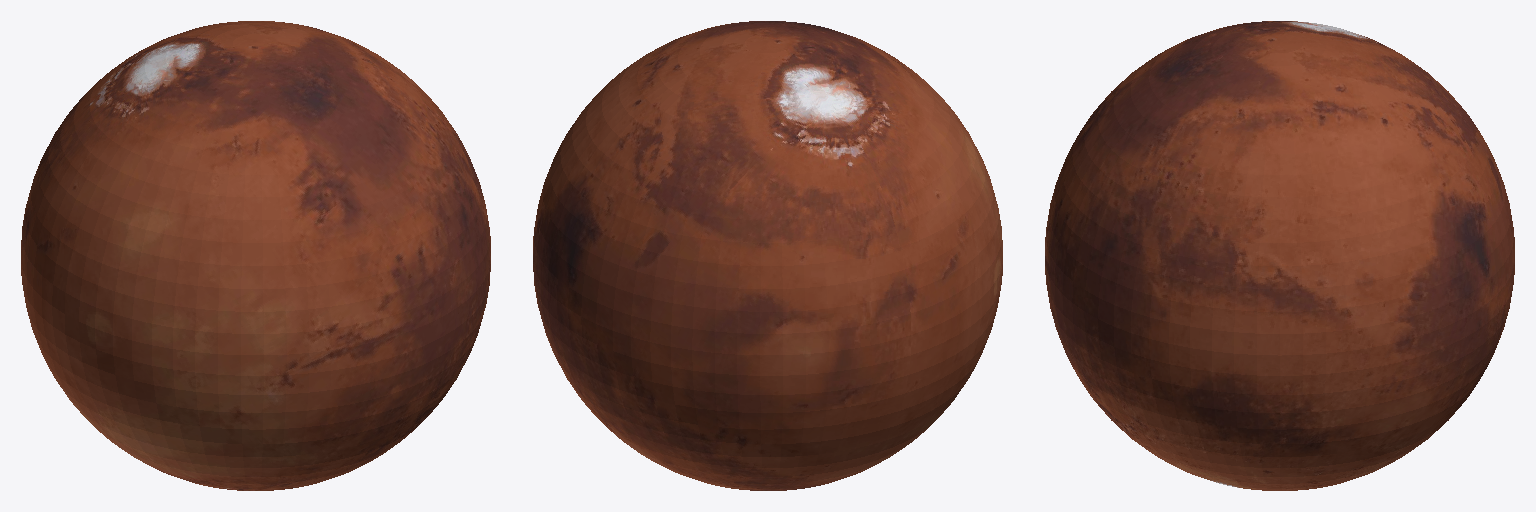
The picture shows the model from 3 angles: view 1: azimuth 30°, elevation 25°; view 2: azimuth 150°, elevation 25°; view 3: azimuth 270°, elevation 25°; orthographic projection.
Visible parts, largest first — view 1: Sphere; view 2: Sphere; view 3: Sphere.
Boxes of the visible parts, box(x1,y1,x2,y2) form: Sphere: box(21, 21, 490, 490); Sphere: box(533, 21, 1002, 490); Sphere: box(1045, 21, 1514, 490).
Bounding box in the file's own units: 2 × 2 × 2.
1 materials, 1 textured.